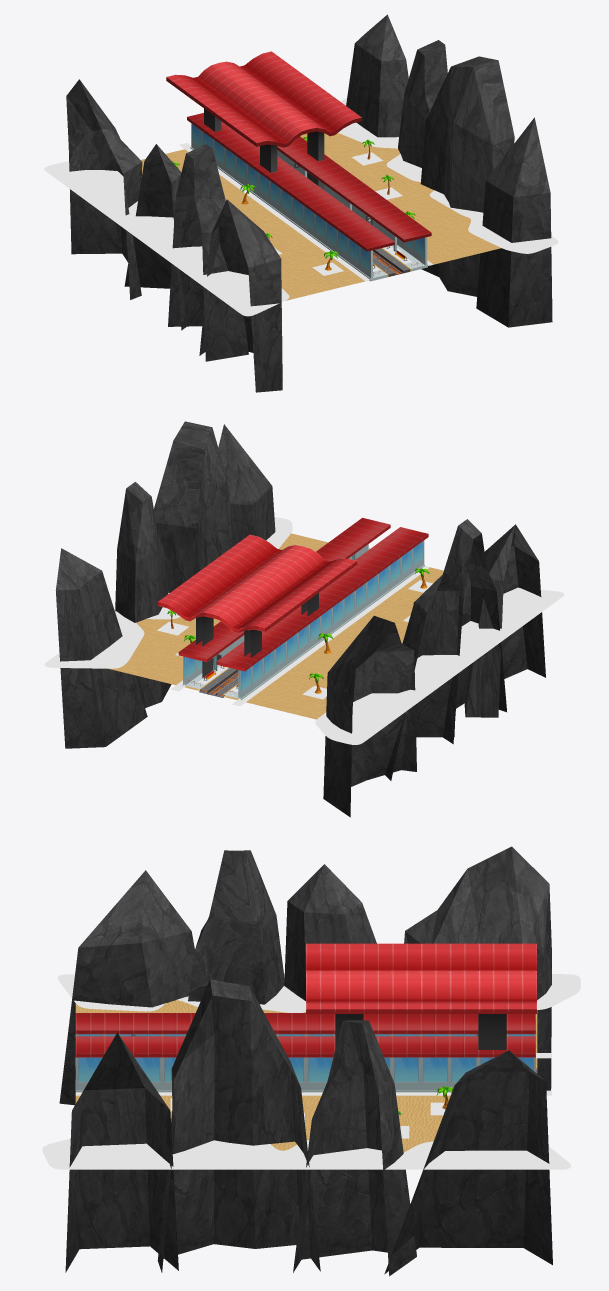
The model's file is Egypt_08.fbx.
3 renders of one model, top to bottom at view 1: azimuth 30°, elevation 25°; view 2: azimuth 150°, elevation 25°; view 3: azimuth 270°, elevation 25°, orthographic. The views are drawn at different scales.
Parts seen in each view (by area): view 1: Egypt_08; view 2: Egypt_08; view 3: Egypt_08.
Boxes of the visible parts, box(x1,y1,x2,y2) form: Egypt_08: box(44, 14, 558, 392); Egypt_08: box(44, 421, 564, 817); Egypt_08: box(42, 846, 580, 1276).
Bounding box in the file's own units: 22617 × 13384 × 25170.
Materials: 9 (9 with a texture image).
